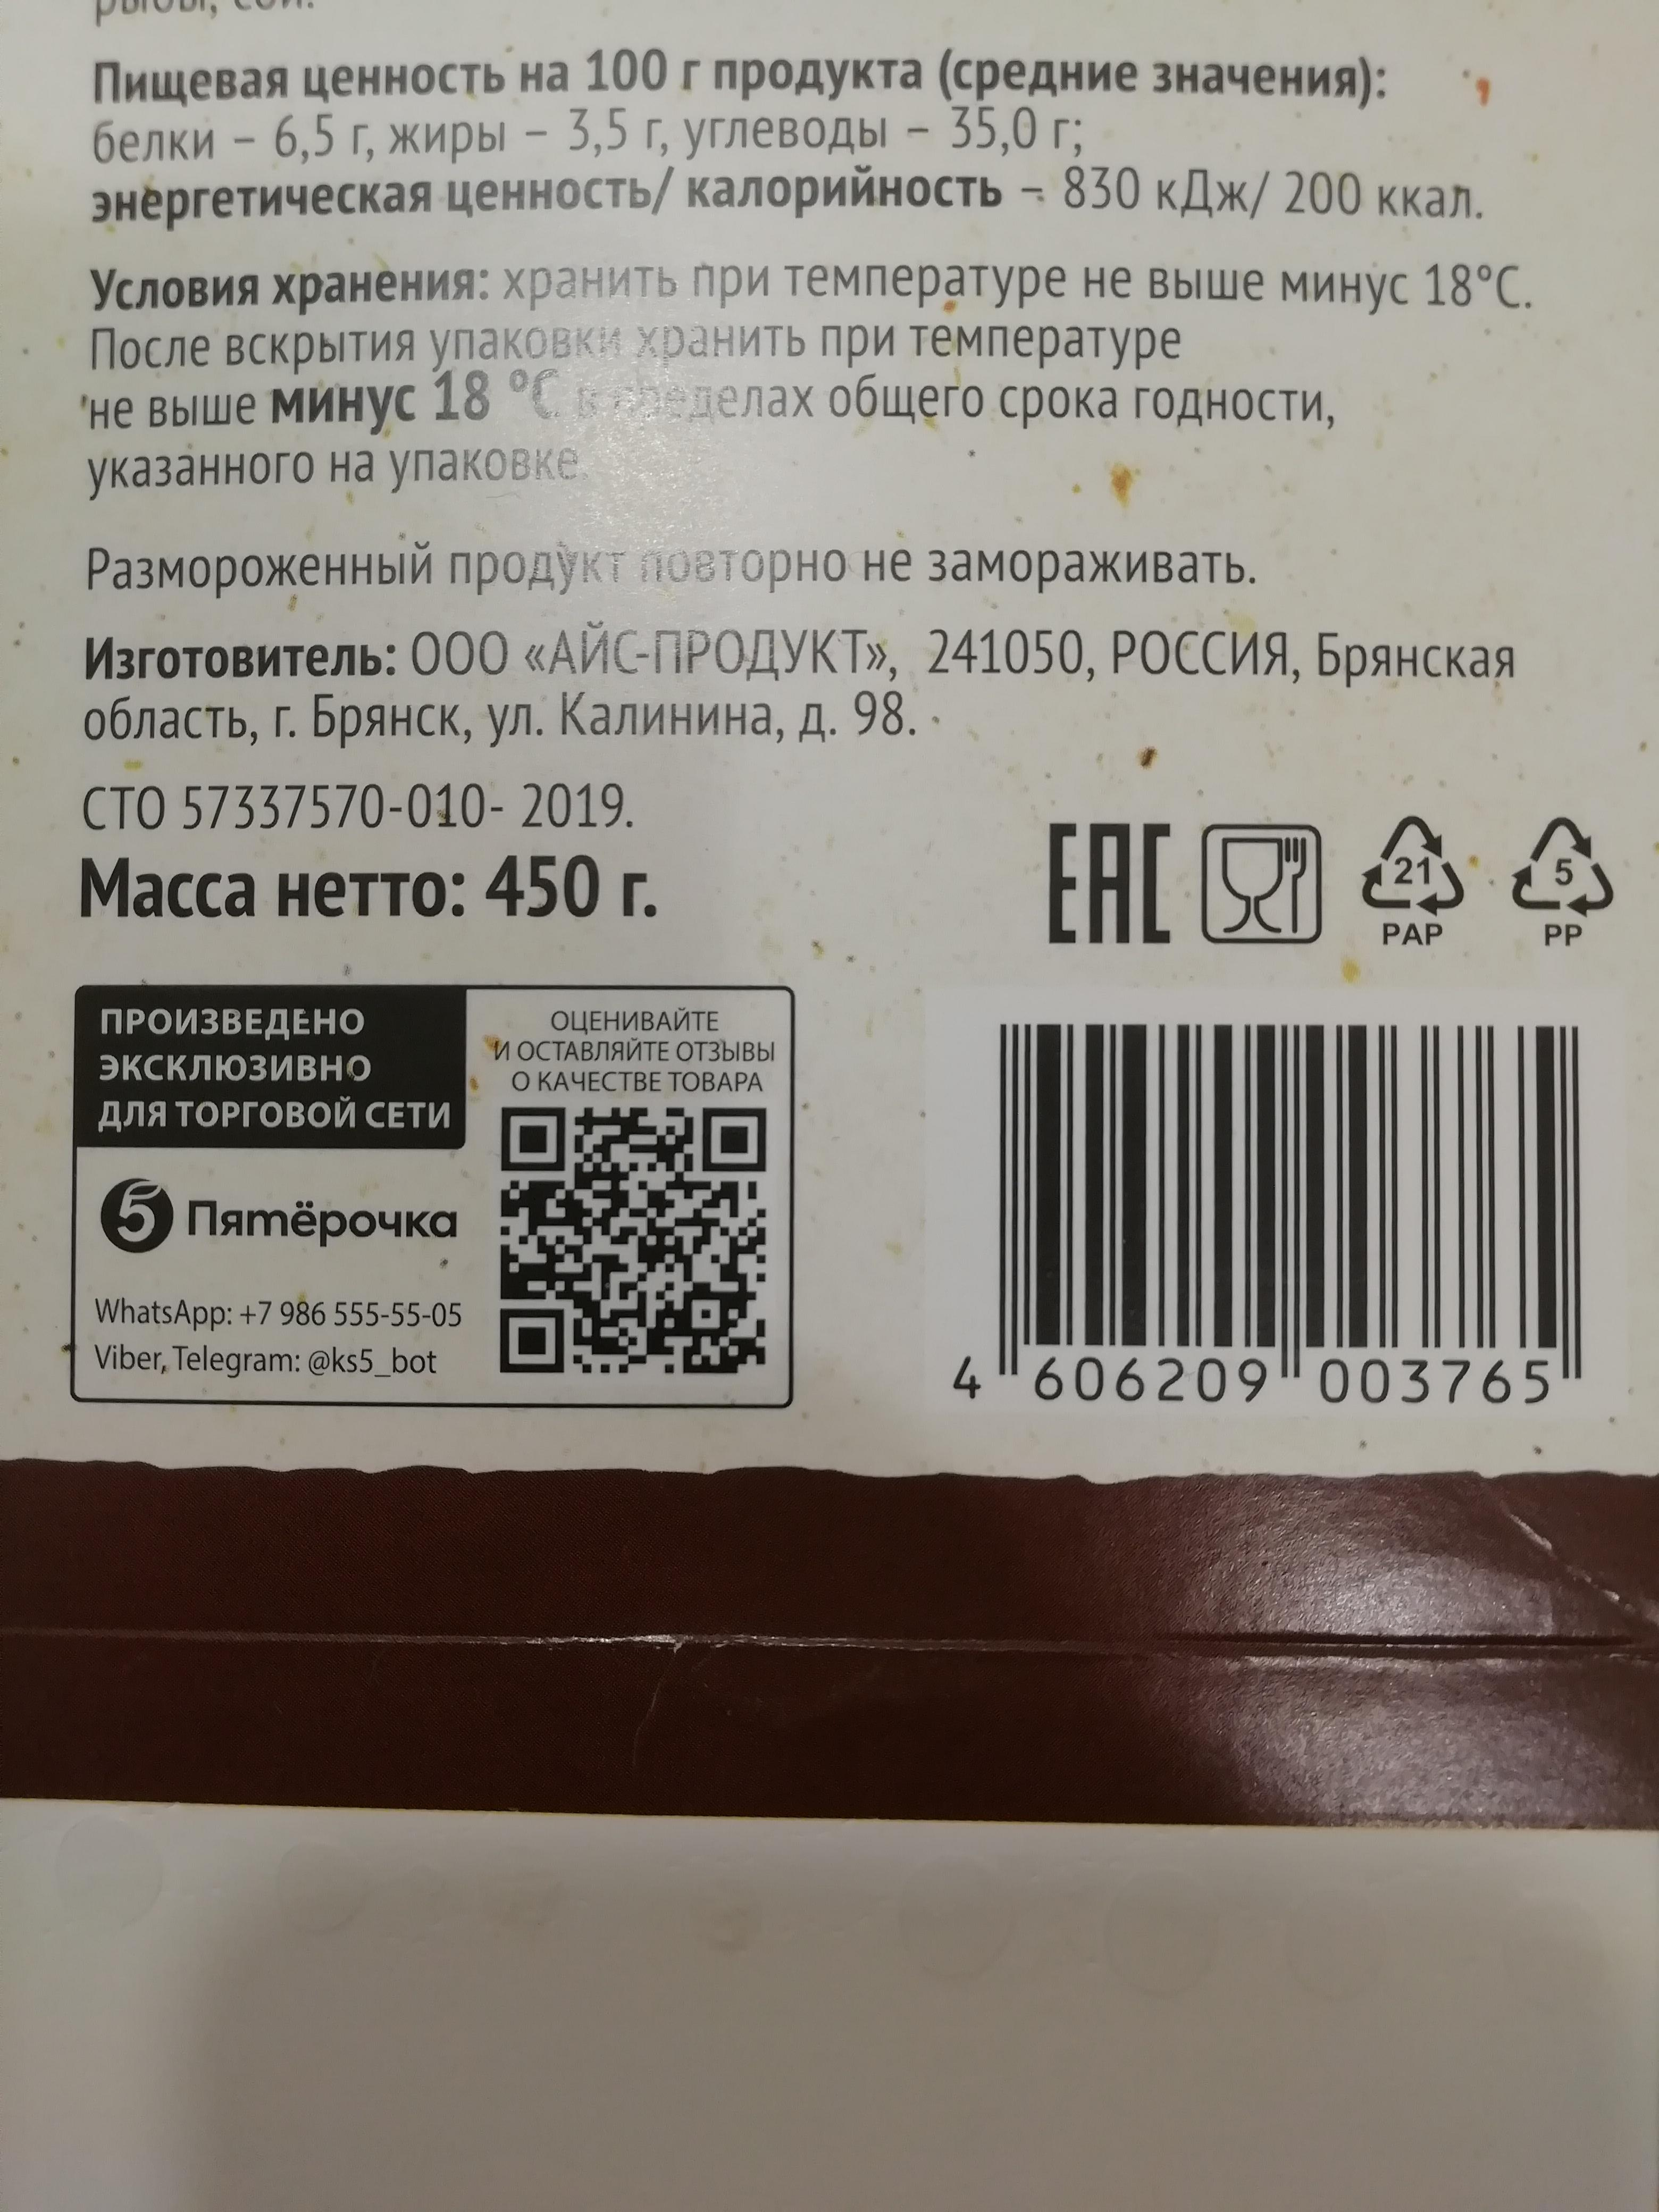qrcode: (500, 1106, 772, 1374)
